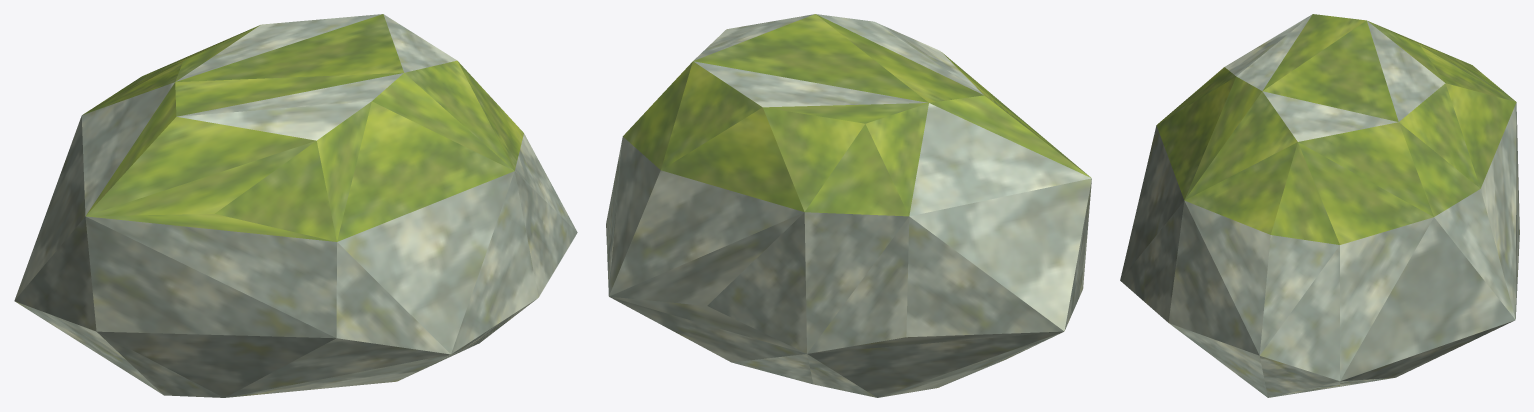
File: Rock_River_A.glb
3 renders of one model, left to right at view 1: azimuth 30°, elevation 25°; view 2: azimuth 150°, elevation 25°; view 3: azimuth 270°, elevation 25°, orthographic. The views are drawn at different scales.
Visible parts, largest first — view 1: Rock_River_A; view 2: Rock_River_A; view 3: Rock_River_A.
Boxes of the visible parts, x1=… form: Rock_River_A: x1=14, y1=14, x2=577, y2=397; Rock_River_A: x1=606, y1=14, x2=1091, y2=397; Rock_River_A: x1=1120, y1=14, x2=1519, y2=397.
Size of the model in its own units: 2.24 by 1.26 by 1.68.
Materials: 1 (1 with a texture image).
